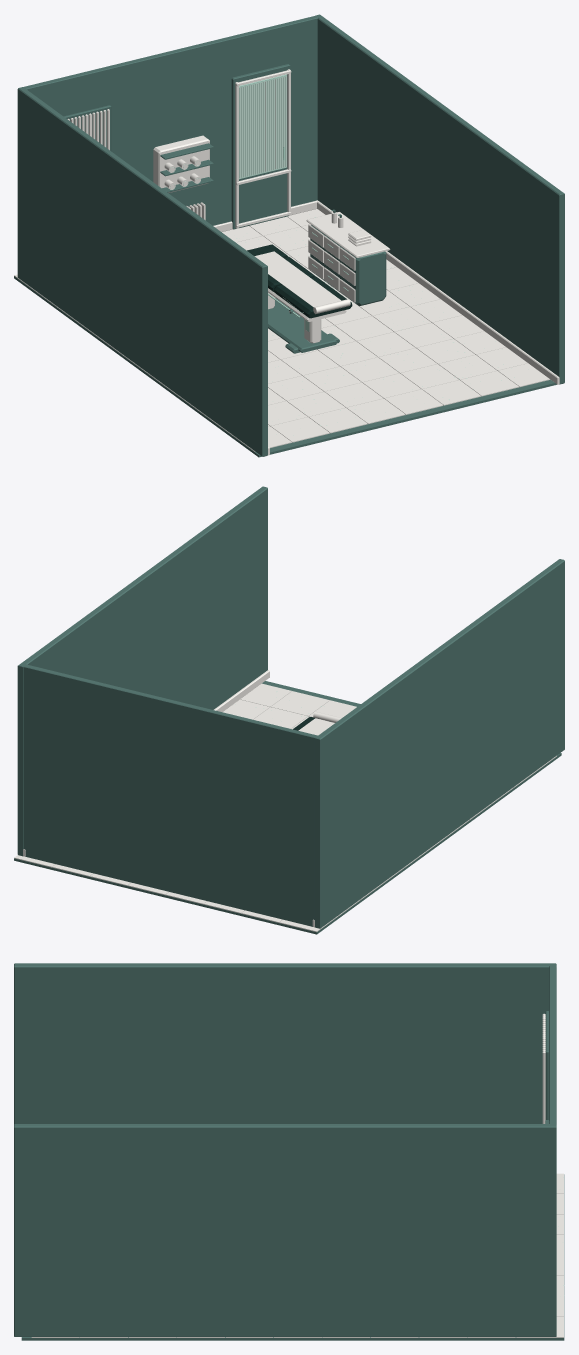
The model's file is room.glb.
3 renders of one model, top to bottom at view 1: azimuth 30°, elevation 25°; view 2: azimuth 150°, elevation 25°; view 3: azimuth 270°, elevation 25°, orthographic. The views are drawn at different scales.
Visible parts, largest first — view 1: suite.room, suite.paper, suite.mint, suite.recess, suite.leather; view 2: suite.room, suite.paper; view 3: suite.room, suite.paper.
Part boxes in pixels (x1,y1,x2,y2): suite.room: (14,14,564,457); suite.paper: (14,69,559,455); suite.mint: (170,74,528,435); suite.recess: (64,64,290,229); suite.leather: (247,244,352,318); suite.room: (14,486,564,934); suite.paper: (14,670,556,931); suite.room: (14,963,564,1340); suite.paper: (31,1013,563,1337).
Size of the model in its own units: 5 by 3.04 by 7.11.
Materials: 7 (1 with a texture image).
